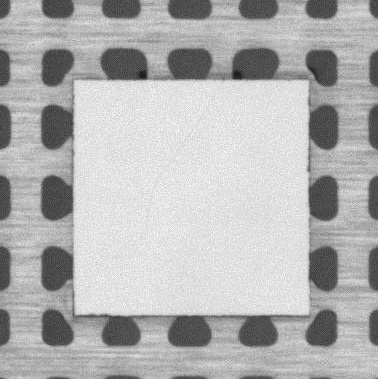DIE_CRACK: (144, 82, 221, 234)
